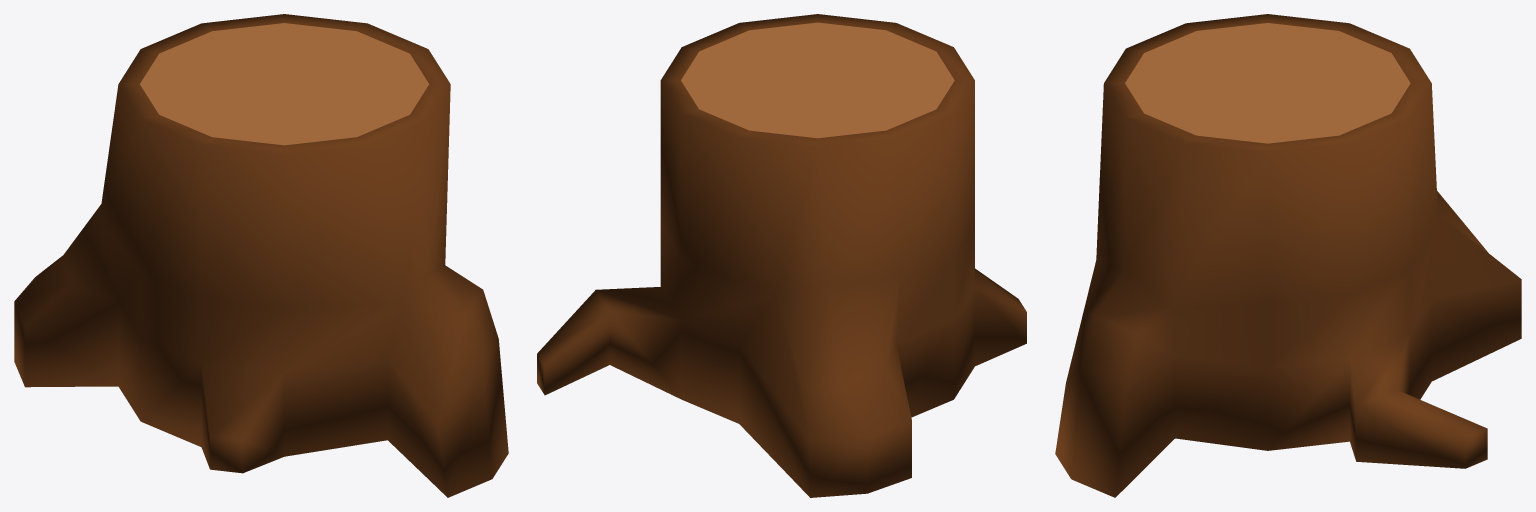
The model's file is trunk var 1.fbx.
The picture shows the model from 3 angles, left to right: view 1: azimuth 30°, elevation 25°; view 2: azimuth 150°, elevation 25°; view 3: azimuth 270°, elevation 25°; orthographic projection. The views are drawn at different scales.
Visible parts, largest first — view 1: trunk var 1; view 2: trunk var 1; view 3: trunk var 1.
Boxes of the visible parts, x1,y1,x2,y2 form: trunk var 1: (14, 14, 508, 497); trunk var 1: (537, 14, 1026, 497); trunk var 1: (1055, 14, 1521, 497).
Bounding box in the file's own units: 0.6913 × 0.6119 × 0.7521.
